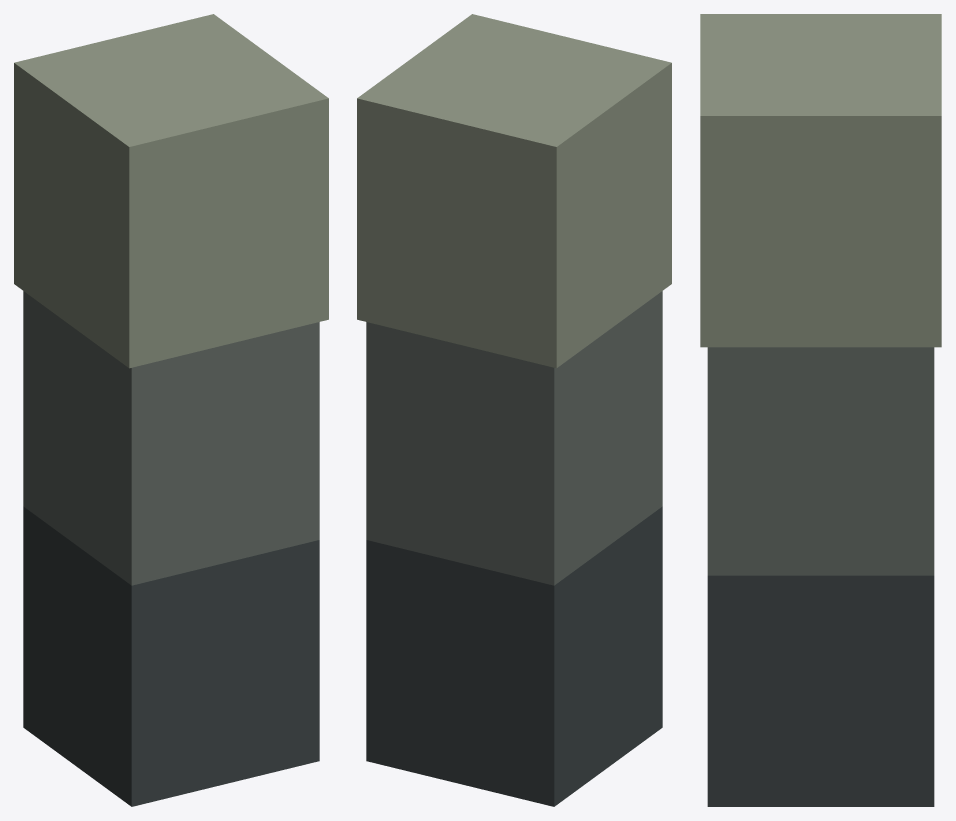
Rendered from TW_STONE_POST_A_LOD0.glb.
3 views of the same model, side by side, from view 1: azimuth 30°, elevation 25°; view 2: azimuth 150°, elevation 25°; view 3: azimuth 270°, elevation 25° (orthographic). The views are drawn at different scales.
Parts seen in each view (by area): view 1: TW_STONE_POST_A_LOD0; view 2: TW_STONE_POST_A_LOD0; view 3: TW_STONE_POST_A_LOD0.
Boxes of the visible parts, bbox=[...] form: TW_STONE_POST_A_LOD0: bbox=[14, 14, 328, 806]; TW_STONE_POST_A_LOD0: bbox=[357, 14, 671, 806]; TW_STONE_POST_A_LOD0: bbox=[700, 14, 941, 806].
Size of the model in its own units: 0.34 by 1.08 by 0.34.
Materials: 1 (1 with a texture image).
